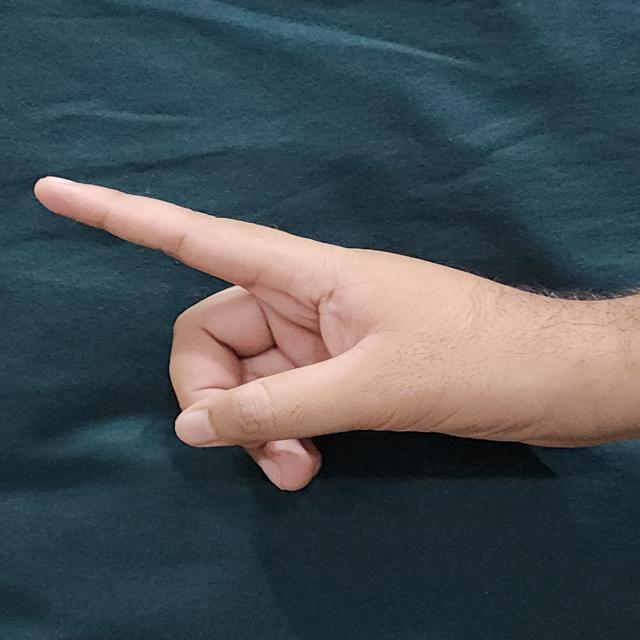ت: (25, 166, 640, 502)
